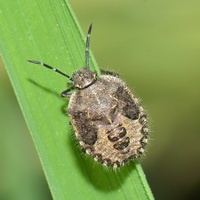insect: (27, 24, 147, 167)
